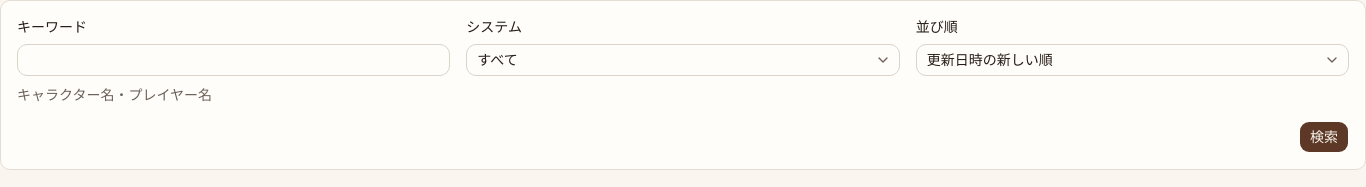
Test: システムの選択肢は「すべて」と 2 つのシステム
What coordinates should you click on to do the following:
click the dropdown named "システム"
I would click on:
 (498, 60)
Its box is left=466, top=44, right=900, bottom=76.
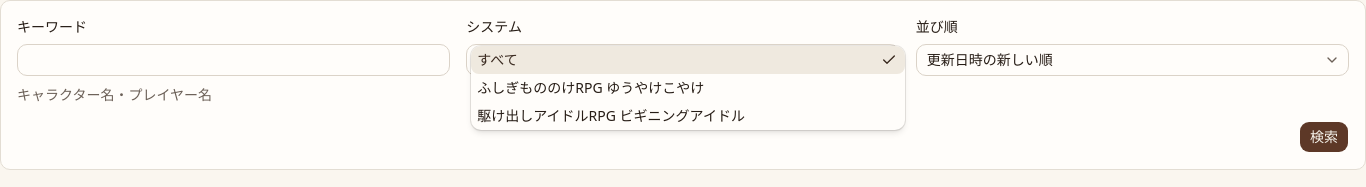
Now the options read "すべて", "ふしぎもののけRPG ゆうやけこやけ", "駆け出しアイドルRPG ビギニングアイドル", in this order, box left=471, top=46, right=905, bottom=74; left=477, top=78, right=704, bottom=97; left=477, top=106, right=745, bottom=125
